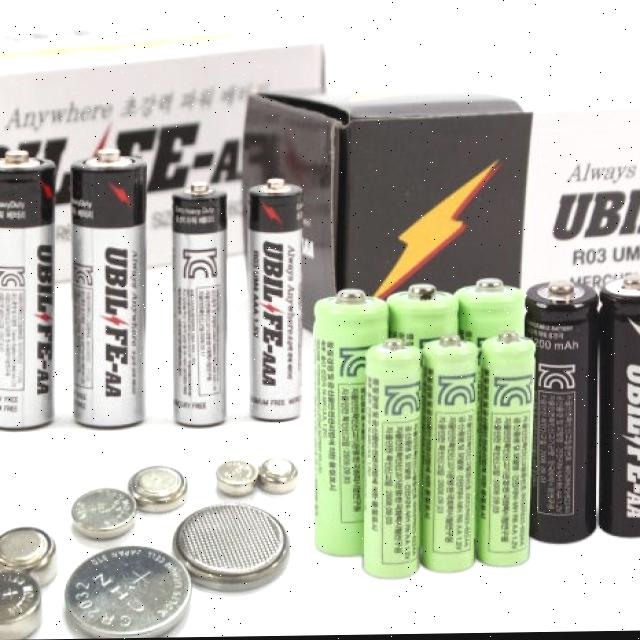battery: (309, 284, 392, 570), (71, 136, 145, 427), (454, 262, 525, 553), (394, 278, 460, 572), (531, 269, 596, 550), (0, 140, 54, 425), (168, 177, 227, 429), (418, 327, 476, 578), (250, 167, 303, 419), (368, 327, 420, 583), (593, 265, 640, 536), (66, 539, 192, 639), (484, 323, 533, 573), (178, 497, 289, 591), (66, 480, 137, 546), (125, 449, 190, 519), (0, 509, 59, 586), (0, 565, 41, 640), (256, 453, 302, 494), (214, 456, 253, 503)
